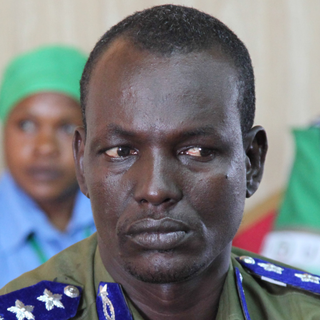eye: (174, 142, 223, 161), (97, 143, 141, 164)
